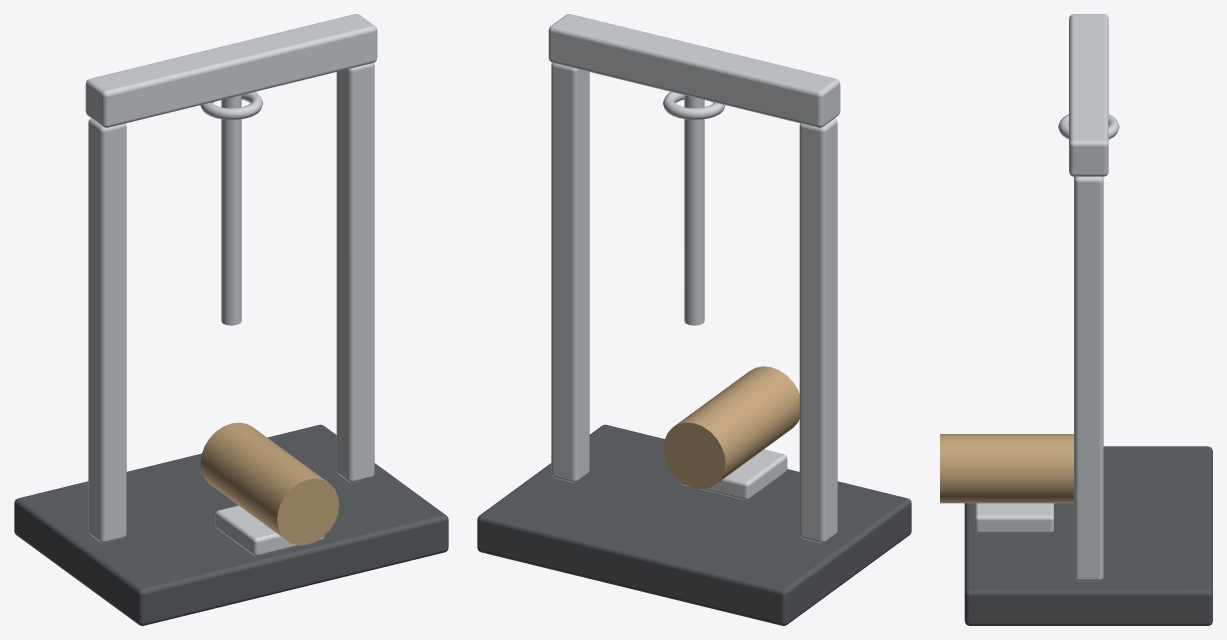
The model's file is geotechnical-soil-testing-laboratory-soil-tube-extrusi-cdb17e40__39034.glb.
3 renders of one model, left to right at view 1: azimuth 30°, elevation 25°; view 2: azimuth 150°, elevation 25°; view 3: azimuth 270°, elevation 25°, orthographic. The views are drawn at different scales.
Visible parts, largest first — view 1: soil-tube-extrusion-press; view 2: soil-tube-extrusion-press; view 3: soil-tube-extrusion-press.
Boxes of the visible parts, x1,y1,x2,y2 form: soil-tube-extrusion-press: (14,14,448,625); soil-tube-extrusion-press: (477,14,911,625); soil-tube-extrusion-press: (940,14,1212,625).
Bounding box in the file's own units: 0.7 × 1.06 × 0.55.
